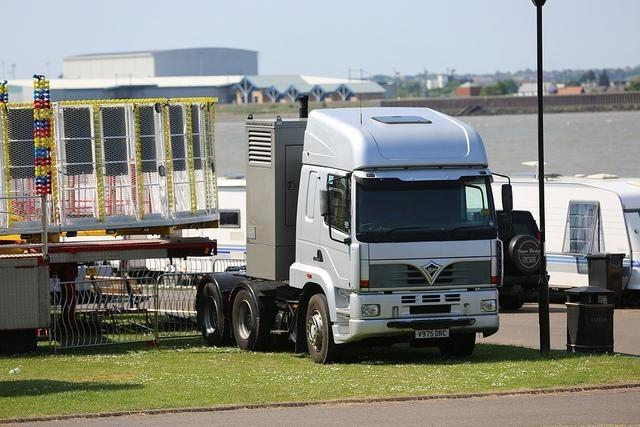car: (495, 211, 545, 310)
truck: (0, 76, 513, 367)
